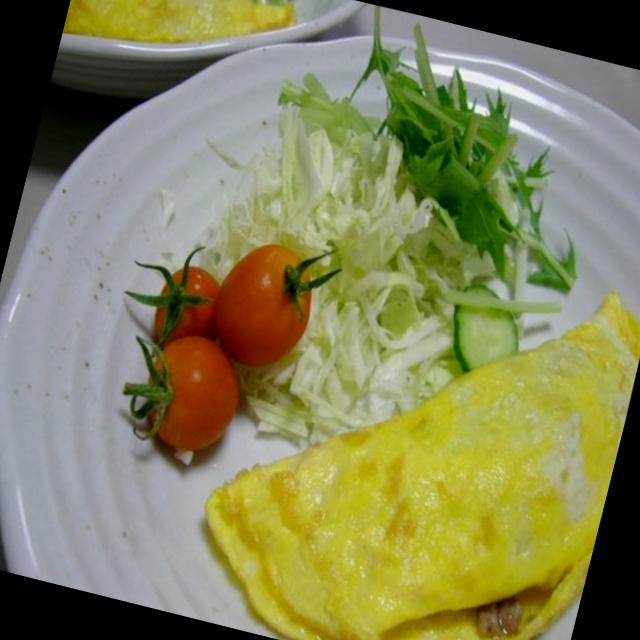Green Salad: (219, 0, 587, 392)
Omelet: (176, 179, 640, 640)
